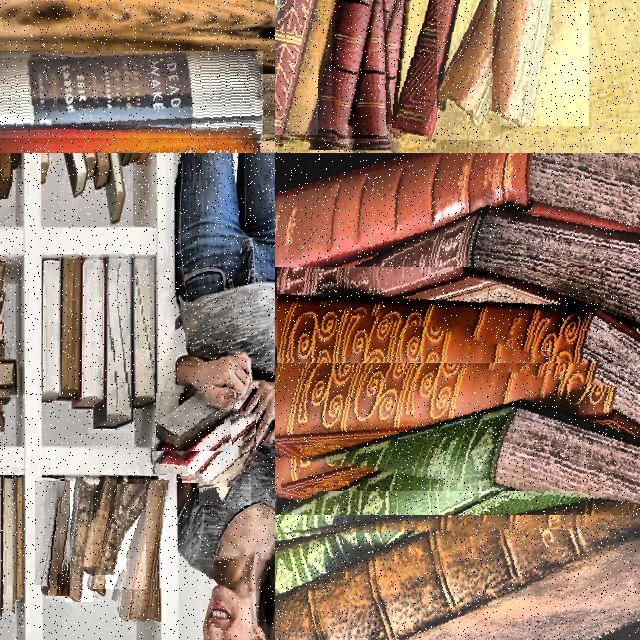Books: (275, 447, 640, 640), (278, 185, 640, 334), (275, 320, 640, 446), (277, 389, 640, 515), (275, 153, 640, 267), (0, 51, 262, 135), (309, 0, 393, 149), (387, 0, 458, 139), (479, 0, 552, 126), (275, 0, 334, 138), (75, 484, 146, 589), (119, 479, 167, 622), (94, 258, 132, 429), (152, 413, 256, 473), (0, 130, 257, 153), (72, 258, 105, 410), (156, 392, 230, 450), (199, 426, 250, 504), (132, 258, 156, 408), (65, 478, 93, 601), (182, 425, 240, 483), (42, 480, 70, 595), (59, 258, 81, 399), (87, 478, 116, 574), (42, 260, 61, 402), (35, 481, 60, 584), (2, 478, 16, 612), (106, 153, 125, 224), (64, 153, 88, 197), (16, 478, 24, 599), (94, 153, 110, 191), (0, 362, 16, 393), (83, 153, 96, 179), (0, 478, 2, 616), (41, 153, 49, 185), (137, 153, 151, 166), (11, 153, 21, 170), (119, 153, 132, 166), (131, 153, 142, 164)
